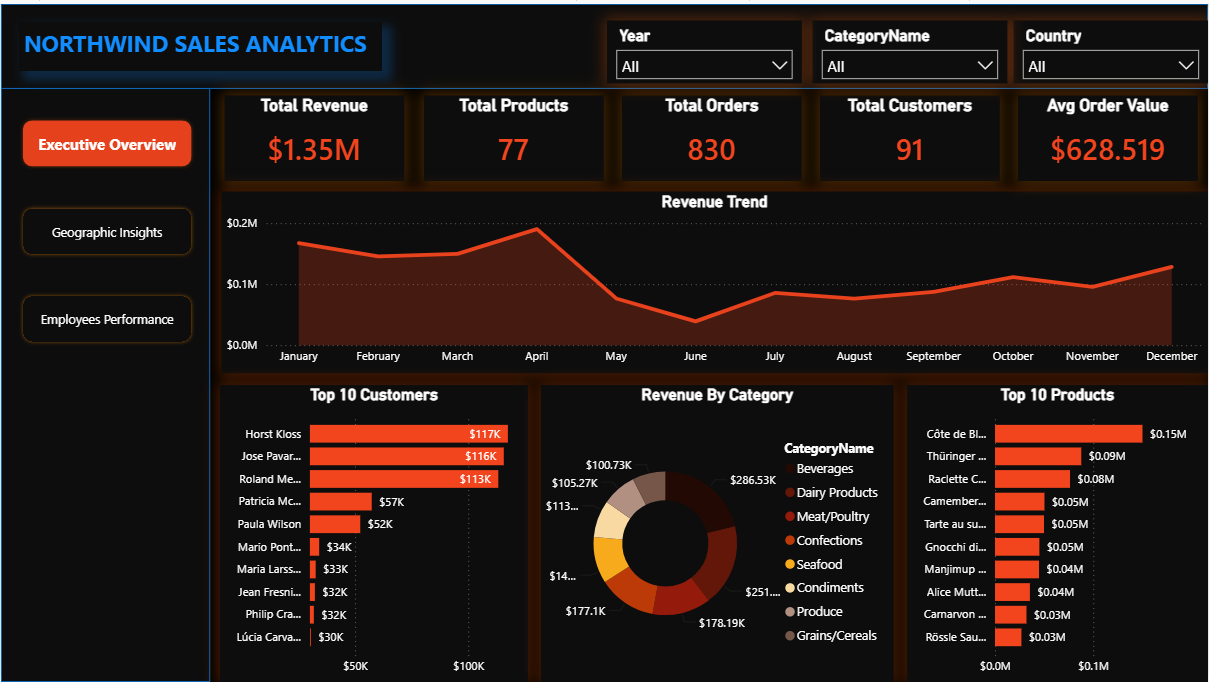

The page's visual inventory and layout, read from the dashboard file:
{"tool":"powerbi","page":{"name":"Executive Dashboard ","canvas":[1280,720],"ordinal":0},"visuals":[{"type":"shape","box":[0,0,1280,90],"z":0},{"type":"cardVisual","title":"Total Revenue","fields":{"Data":["Sum(vw_TotalRevenue.Total_Revenue)"]},"box":[237,97,190.9,90.7],"z":1000},{"type":"cardVisual","title":"Total Products","fields":{"Data":["Sum(vw_TotalProducts.Total_Products)"]},"box":[448.6,97,190.9,90.7],"z":2000},{"type":"cardVisual","title":"Total Orders","fields":{"Data":["Sum(vw_TotalOrders.Total_Orders)"]},"box":[658.5,97,190.9,90.7],"z":3000},{"type":"cardVisual","title":"Total Customers","fields":{"Data":["Sum(vw_TotalCustomers.Total_Customers)"]},"box":[868.5,97,190.9,90.7],"z":4000},{"type":"shape","box":[0,89.1,221.8,629.9],"z":5000},{"type":"lineChart","title":"Revenue Trend","fields":{"Y":["Sum(OrderDetails.Total Sales)"],"Category":["Orders.OrderDate.Variation.Date Hierarchy.Month","Orders.OrderDate.Variation.Date Hierarchy.Year"]},"box":[233.2,199.2,1046,192.7],"z":6000},{"type":"barChart","title":"Top 10 Customers","fields":{"Category":["Customers.ContactName"],"Y":["Sum(OrderDetails.Total Sales)"]},"box":[232.4,404.4,326.9,315.6],"z":7000},{"type":"barChart","title":"Top 10 Products","fields":{"Category":["Products.ProductName"],"Y":["Sum(OrderDetails.Total Sales)"]},"box":[960,404.4,319.4,315.6],"z":8000},{"type":"textbox","box":[19.4,19.4,385.4,51.8],"z":9000},{"type":"donutChart","title":"Revenue By Category","fields":{"Category":["Categories.CategoryName"],"Y":["Sum(OrderDetails.Total Sales)"]},"box":[573.2,404.8,374,315.7],"z":10000},{"type":"textbox","box":[11.3,100.4,200.8,61.5],"z":11000},{"type":"slicer","fields":{"Values":["Suppliers.Country"]},"box":[8.1,391.9,207.3,92.3],"z":12000},{"type":"advancedSlicerVisual","fields":{"Values":["Orders.OrderDate.Variation.Date Hierarchy.Year"]},"box":[8.1,187.8,207.3,181.4],"z":13000},{"type":"slicer","fields":{"Values":["Categories.CategoryName"]},"box":[8.1,503.6,207.3,92.3],"z":14000},{"type":"pageNavigator","box":[505.2,19.4,709.2,50.2],"z":15000},{"type":"cardVisual","title":"Avg Order Value","fields":{"Data":["Sum(vw_AvgOrderValue.Avg_OrderValue)"]},"box":[1078.4,97,190.9,90.7],"z":16000}]}

Visuals, with their boxes in screenshot pixels (x1, y1, x2, y2), scaled from the page's 1280x720 canvas onto the 1209x682 screenshot:
shape: (0, 0, 1208, 85)
"Total Revenue" cardVisual: (224, 92, 404, 178)
"Total Products" cardVisual: (424, 92, 604, 178)
"Total Orders" cardVisual: (622, 92, 802, 178)
"Total Customers" cardVisual: (820, 92, 1001, 178)
shape: (0, 84, 209, 681)
"Revenue Trend" lineChart: (220, 189, 1208, 371)
"Top 10 Customers" barChart: (220, 383, 528, 681)
"Top 10 Products" barChart: (907, 383, 1208, 681)
textbox: (18, 18, 382, 67)
"Revenue By Category" donutChart: (541, 383, 895, 681)
textbox: (11, 95, 200, 153)
slicer - Suppliers.Country: (8, 371, 203, 459)
advancedSlicerVisual - Orders.OrderDate.Variation.Date Hierarchy.Year: (8, 178, 203, 350)
slicer - Categories.CategoryName: (8, 477, 203, 564)
pageNavigator: (477, 18, 1147, 66)
"Avg Order Value" cardVisual: (1019, 92, 1199, 178)
